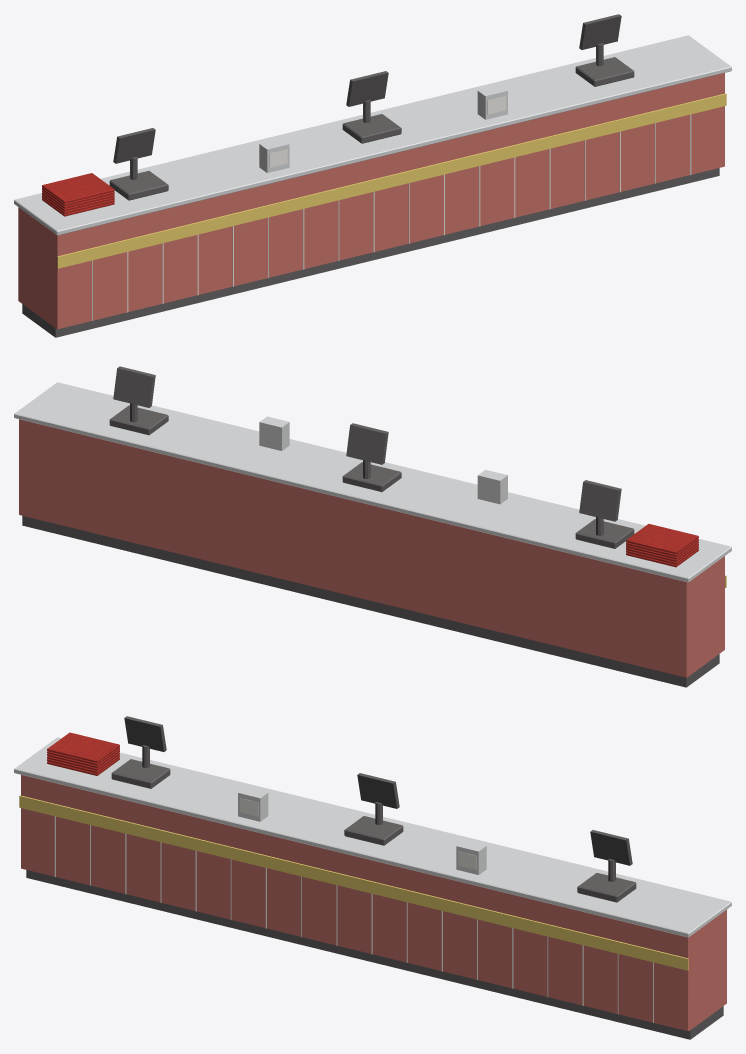
The model's file is service_counter.glb.
The picture shows the model from 3 angles, top to bottom: view 1: azimuth 30°, elevation 25°; view 2: azimuth 150°, elevation 25°; view 3: azimuth 330°, elevation 25°; orthographic projection.
Parts seen in each view (by area): view 1: service_counter_tile_r, service_counter_steel, service_counter_dark, service_counter_accent, service_counter_red, service_counter_tile_w, service_counter_cup_w; view 2: service_counter_tile_r, service_counter_steel, service_counter_dark, service_counter_red; view 3: service_counter_tile_r, service_counter_steel, service_counter_dark, service_counter_accent, service_counter_red, service_counter_tile_w, service_counter_cup_w.
Boxes of the visible parts, x1,y1,x2,y2 form: service_counter_tile_r: (18,73,724,328); service_counter_steel: (14,35,731,235); service_counter_dark: (22,14,719,337); service_counter_accent: (57,93,726,268); service_counter_red: (42,173,114,216); service_counter_tile_w: (92,114,691,320); service_counter_cup_w: (269,96,505,167); service_counter_tile_r: (19,419,724,677); service_counter_steel: (14,382,731,582); service_counter_dark: (22,366,719,687); service_counter_red: (626,524,698,567); service_counter_tile_r: (21,775,726,1031); service_counter_steel: (14,737,731,937); service_counter_dark: (26,716,723,1039); service_counter_accent: (19,795,688,970); service_counter_red: (47,732,119,775); service_counter_tile_w: (54,816,653,1022); service_counter_cup_w: (240,798,476,869).
Bounding box in the file's own units: 6 × 1.42 × 0.67.
8 materials, 1 textured.
